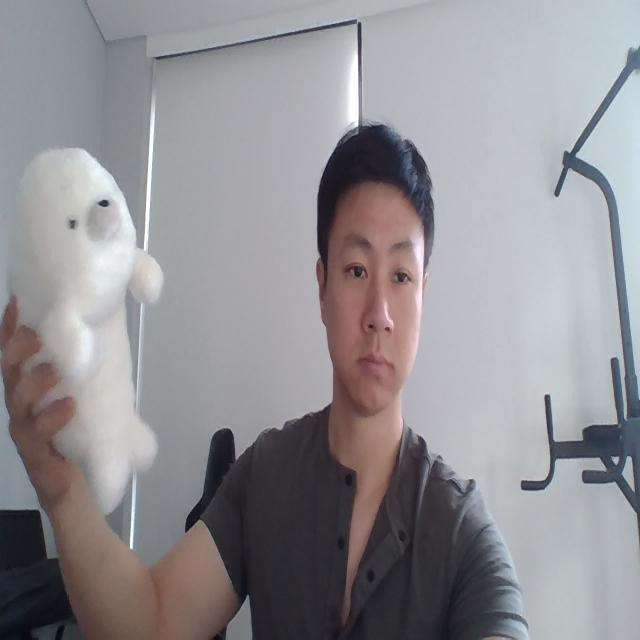seal_bb: (7, 147, 164, 515)
